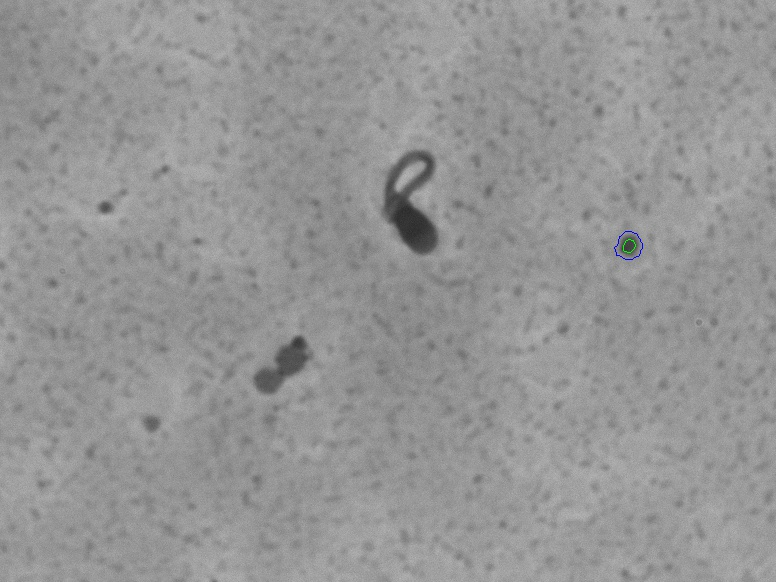Abnormal: (331, 114, 483, 282)
